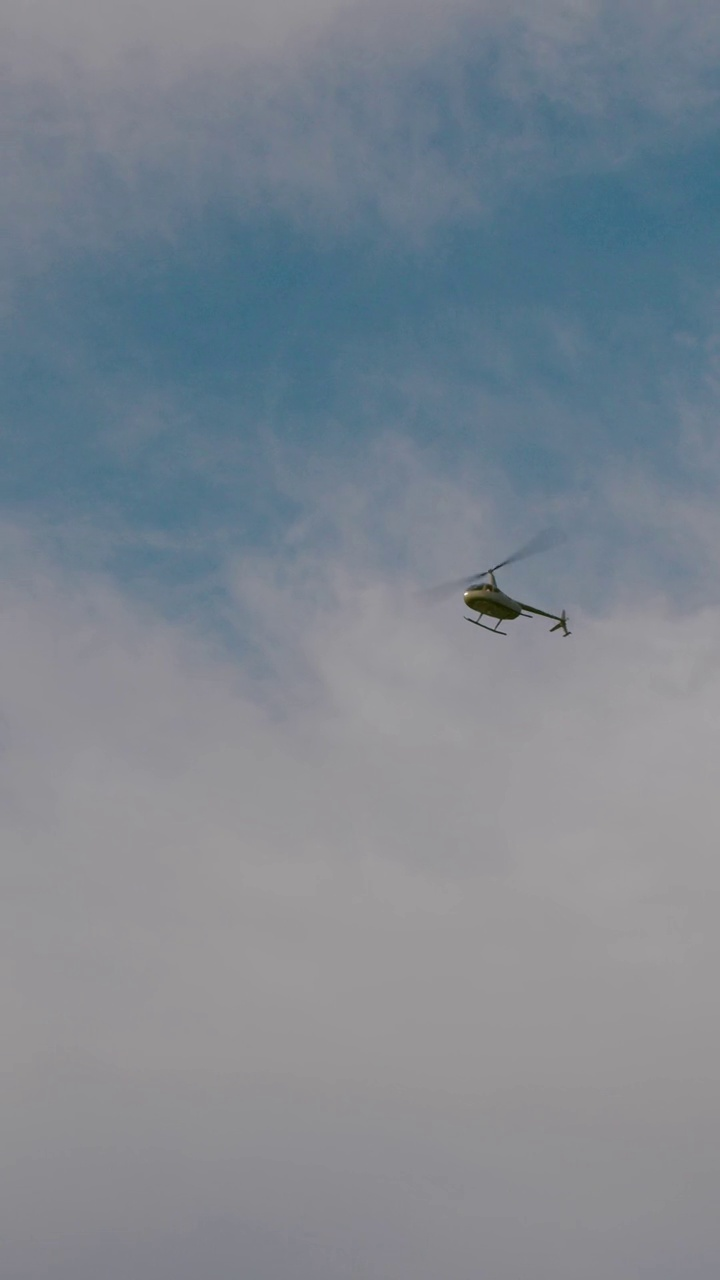heli: (461, 535, 573, 637)
